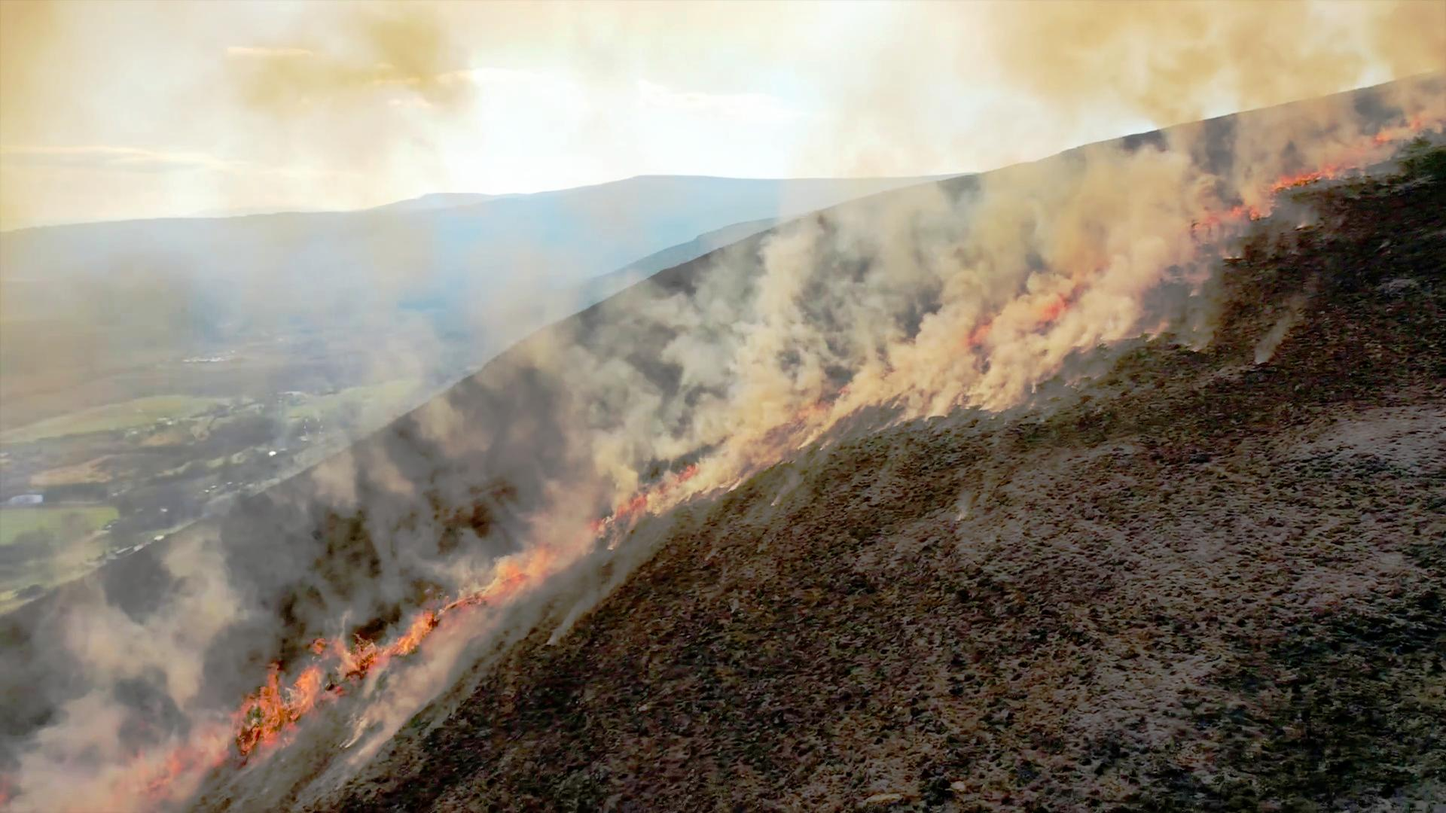fire: (228, 670, 317, 738)
smoke: (1004, 0, 1446, 70), (740, 107, 837, 401), (218, 0, 462, 104), (1034, 153, 1169, 324), (550, 354, 659, 548), (887, 296, 1049, 418), (678, 279, 767, 467)
